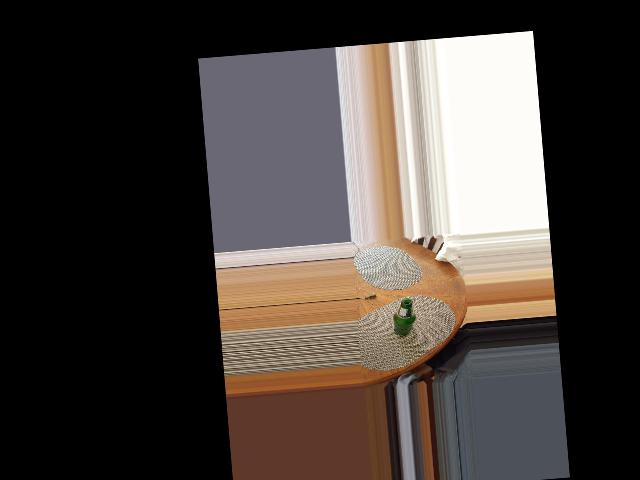beer: (392, 298, 417, 336)
